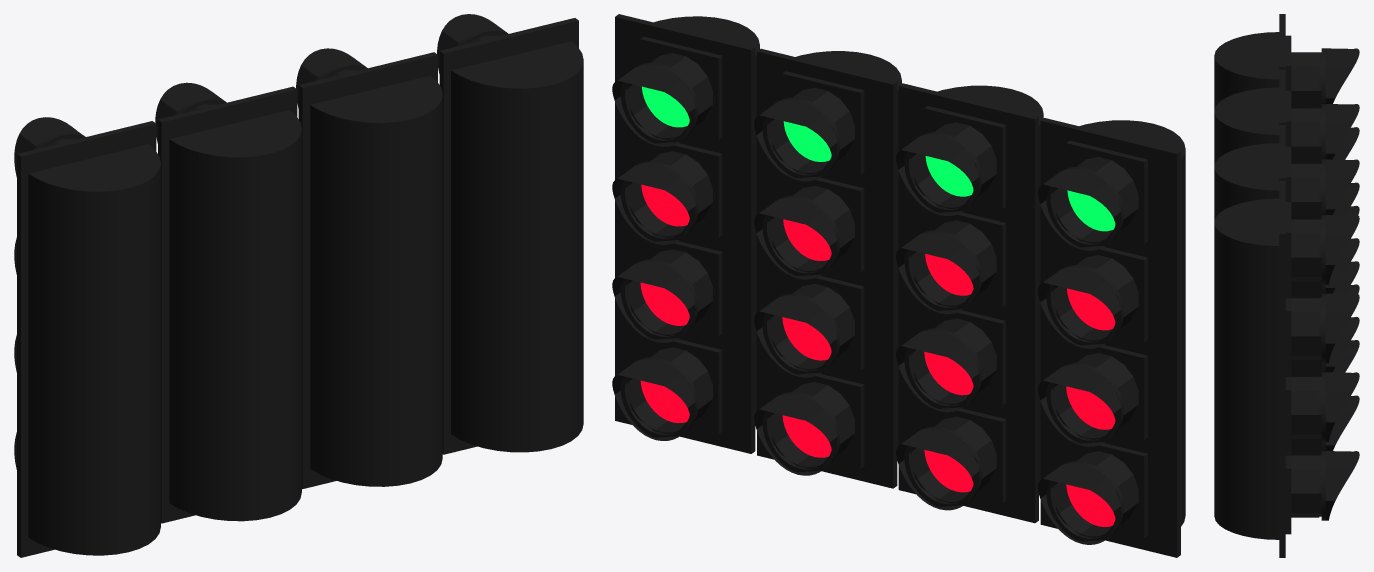
The model's file is lumière.fbx.
The picture shows the model from 3 angles, left to right: view 1: azimuth 30°, elevation 25°; view 2: azimuth 150°, elevation 25°; view 3: azimuth 270°, elevation 25°; orthographic projection. The views are drawn at different scales.
Parts seen in each view (by area): view 1: Plane.005_low.005; view 2: Plane.005_low.005; view 3: Plane.005_low.005.
Part boxes in pixels (x1,y1,x2,y2): Plane.005_low.005: [14, 14, 583, 557]; Plane.005_low.005: [612, 14, 1185, 557]; Plane.005_low.005: [1214, 14, 1359, 557].
Bounding box in the file's own units: 342 × 235 × 95.45.
